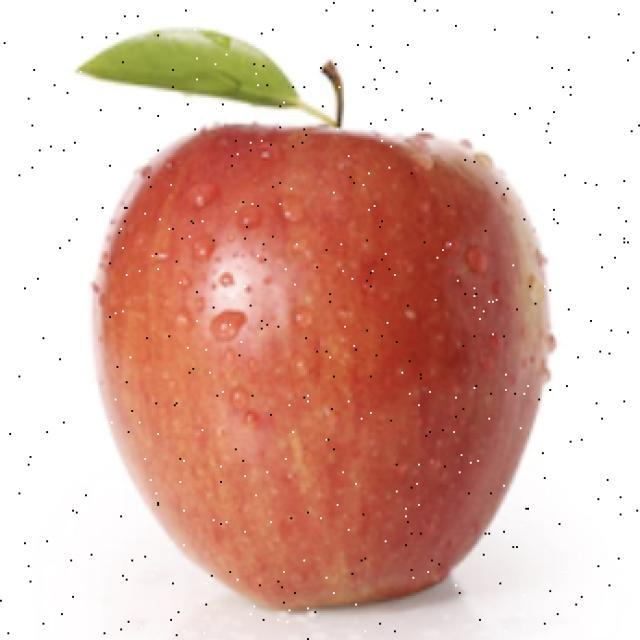Fresh Apple: (118, 130, 560, 543)
